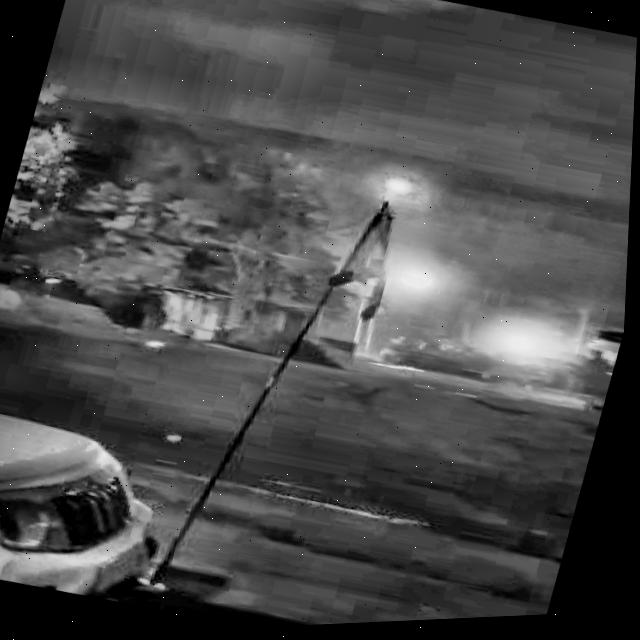light_vehicle: (0, 277, 236, 617)
